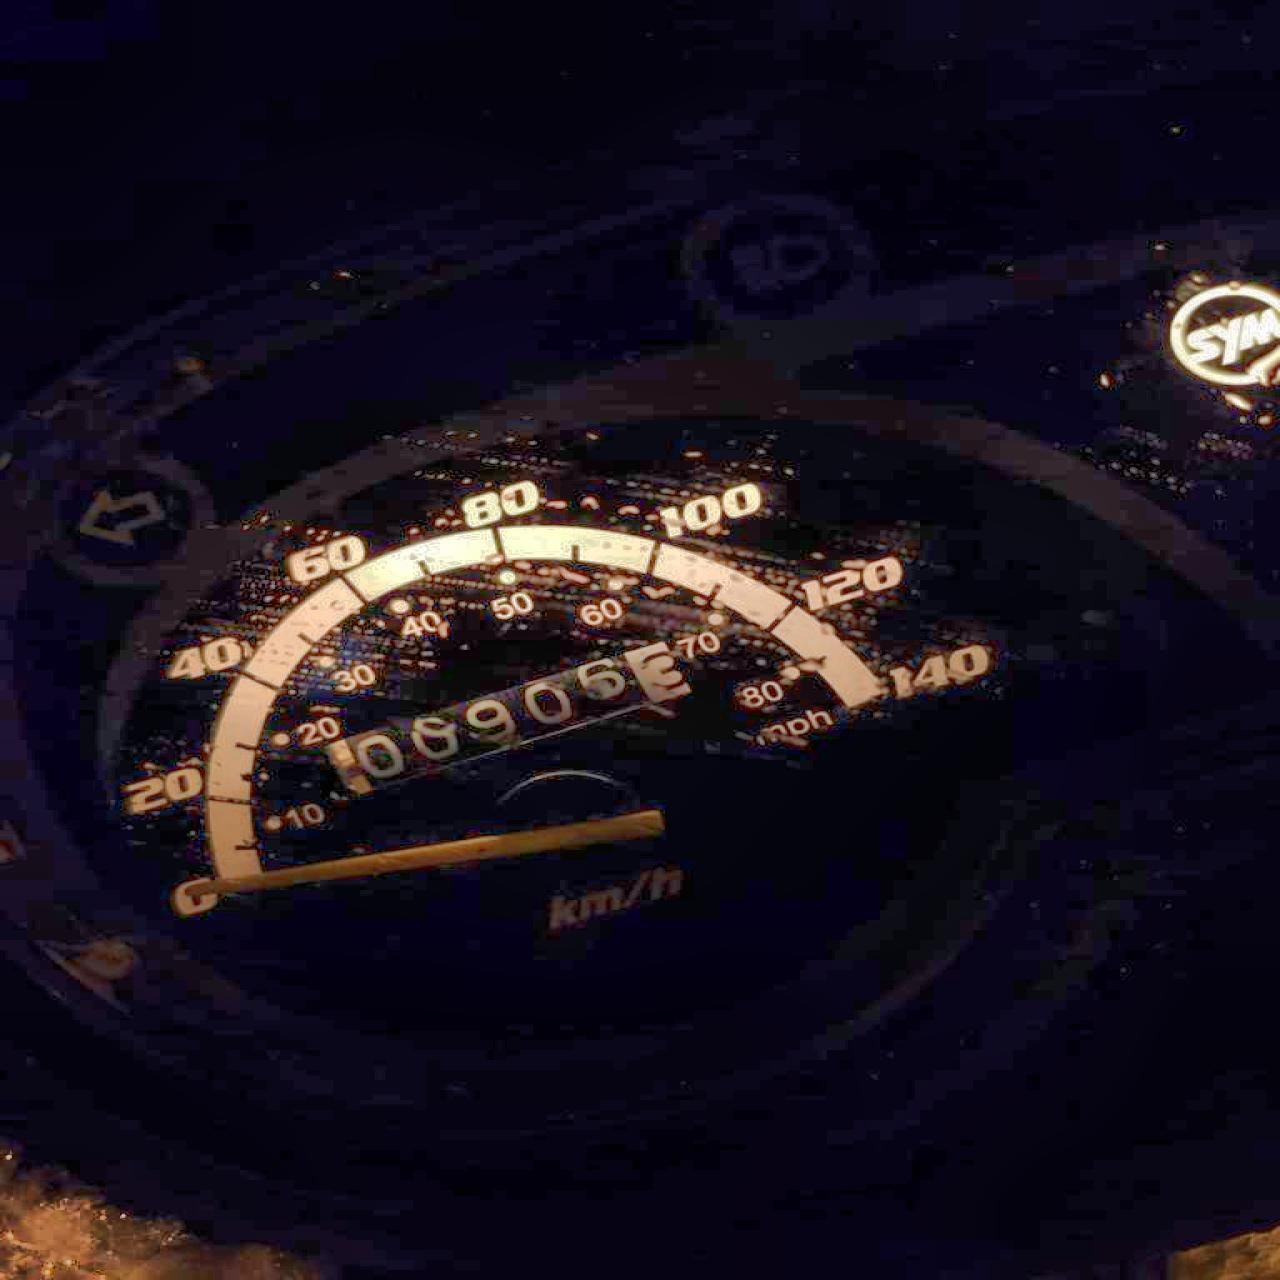0: (522, 681, 572, 723), (355, 733, 403, 776), (408, 716, 457, 758), (352, 662, 375, 686), (315, 716, 339, 737)
3: (639, 649, 687, 690), (328, 669, 355, 692)
6: (573, 656, 625, 699)
7: (673, 635, 695, 658)
9: (463, 697, 515, 743)
odometer: (320, 638, 692, 802)
